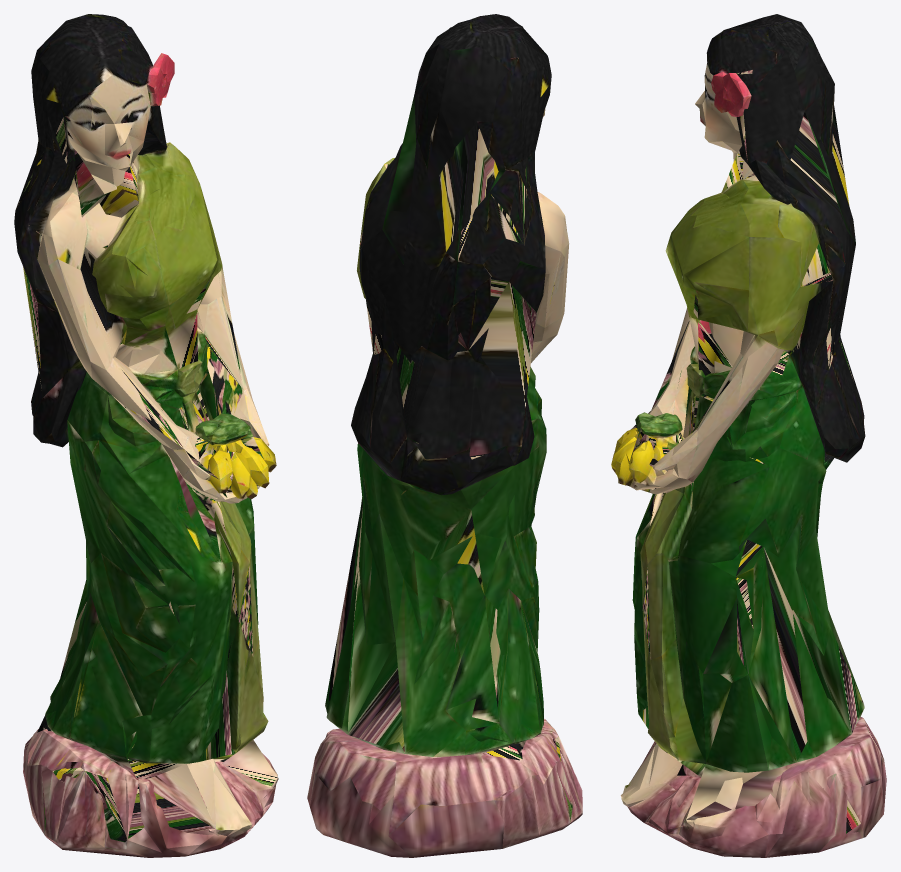
The model's file is e4tani.glb.
3 views of the same model, side by side, from view 1: azimuth 30°, elevation 25°; view 2: azimuth 150°, elevation 25°; view 3: azimuth 270°, elevation 25° (orthographic). The views are drawn at different scales.
Parts seen in each view (by area): view 1: e4tani_near, e4tani_far; view 2: e4tani_near, e4tani_far; view 3: e4tani_near, e4tani_far.
Part boxes in pixels (x1=…): e4tani_near: x1=14, y1=14, x2=278, y2=857; e4tani_far: x1=17, y1=33, x2=277, y2=842; e4tani_near: x1=307, y1=14, x2=582, y2=857; e4tani_far: x1=325, y1=51, x2=566, y2=799; e4tani_near: x1=611, y1=14, x2=886, y2=857; e4tani_far: x1=619, y1=34, x2=863, y2=857.
Bounding box in the file's own units: 0.0254 × 0.085 × 0.0277.
Materials: 1 (1 with a texture image).
